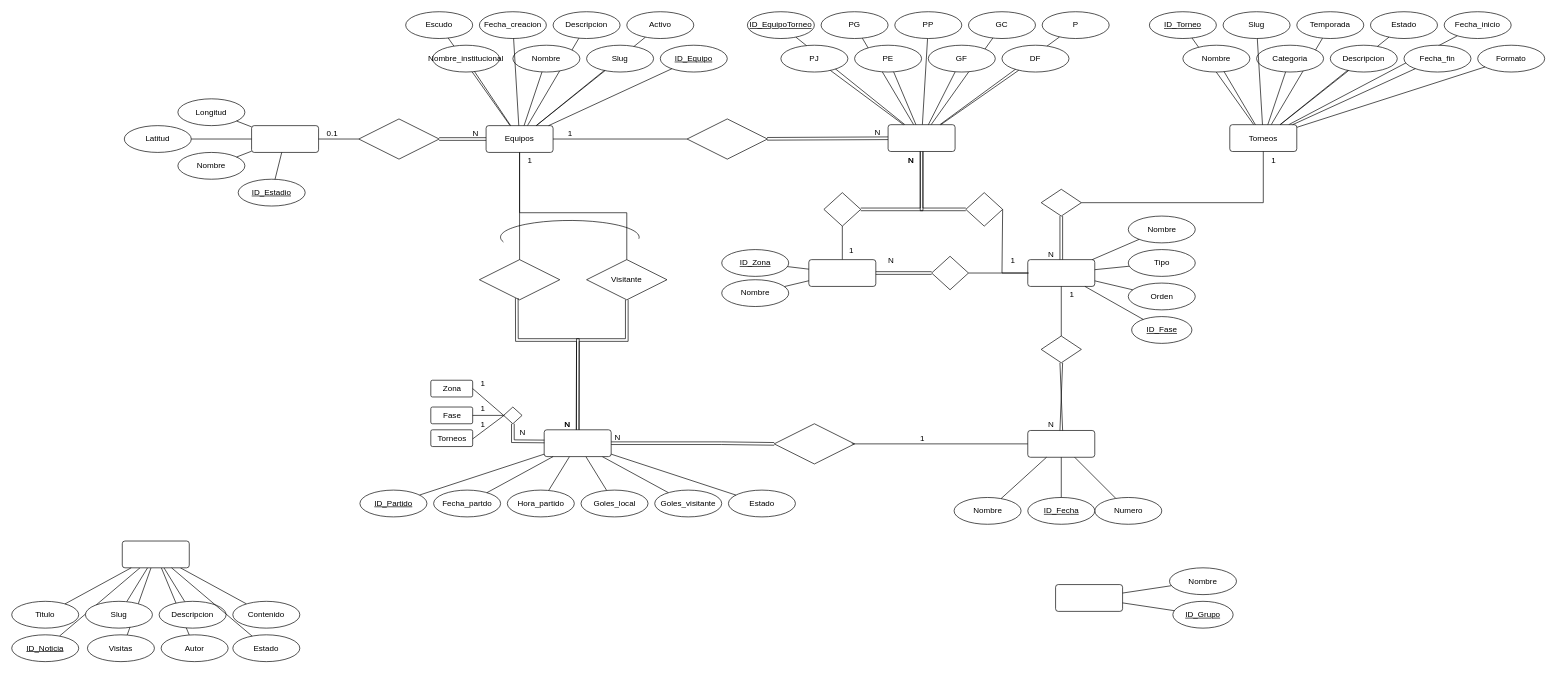
Some shapes in this 1556 by 673 pixel diagram are drawn without their labels. The shapes that lost their labels are listed below. From the top down, each one's centre as x and y in pixels, then its label:
At point (285, 138): "Estadios".
At point (921, 137): "Equipo-Competicion".
At point (519, 279): "Local".
At point (842, 272): "Zonas".
At point (1061, 272): "Fases".
At point (577, 443): "Partidos".
At point (1061, 443): "Fechas".
At point (155, 554): "Noticias".
At point (1089, 597): "Grupo".
